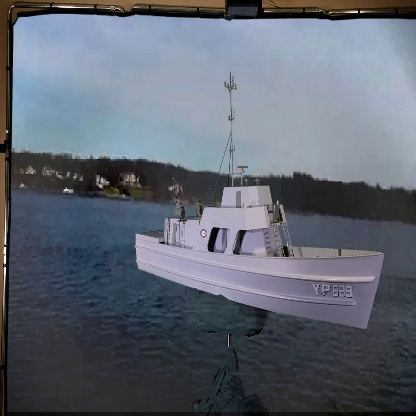YP689: (133, 73, 388, 334)
